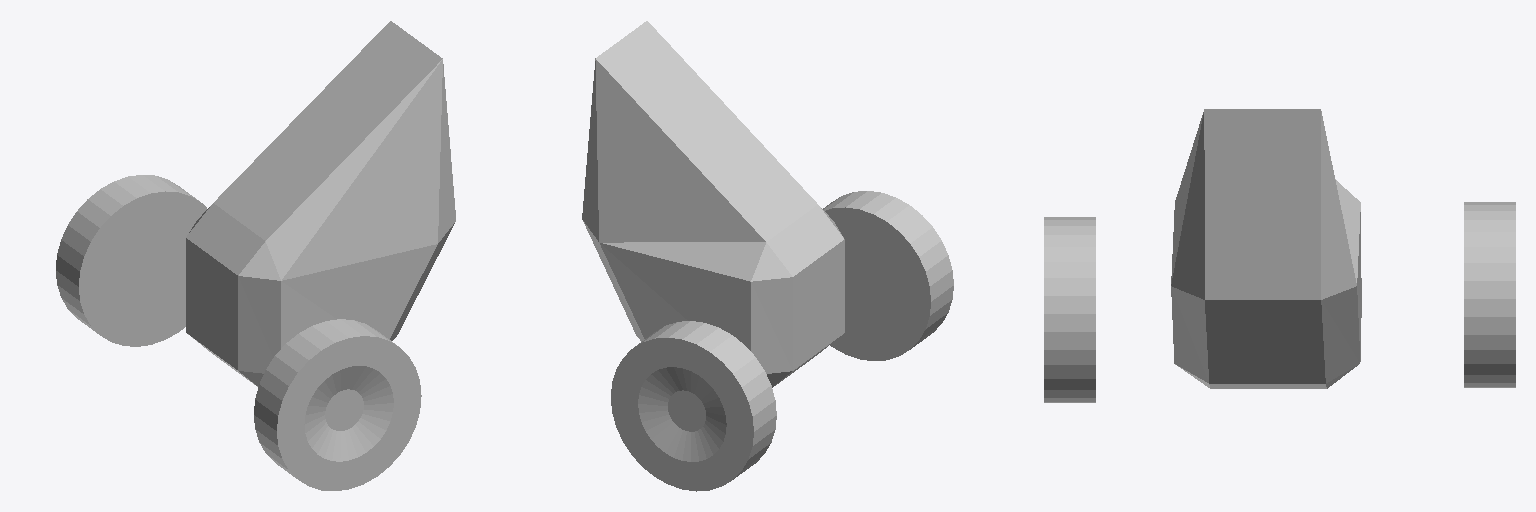
The robot description file, URDF, robot "testlx":
<robot name="testlx" version="1.0">
  <joint name="hw" type="continuous">
    <limit lower="0" upper="0" effort="24.09000" velocity="1.26000"/>
    <origin rpy="-1.57080 0.00000 0.00000" xyz="3.49959 0.08915 -0.59008"/>
    <parent link="myroot"/>
    <child link="sub.002"/>
    <axis xyz="0.00000 0.00000 1.00000"/>
  </joint>
  <joint name="lw" type="continuous">
    <limit lower="0" upper="0" effort="0.54000" velocity="42.30000"/>
    <origin rpy="-1.57080 -0.00000 -3.14159" xyz="-0.49588 -2.24285 -0.59008"/>
    <parent link="myroot"/>
    <child link="sub.001"/>
    <axis xyz="0.00000 0.00000 1.00000"/>
  </joint>
  <joint name="rw" type="continuous">
    <limit lower="0" upper="0" effort="37.08000" velocity="1.26000"/>
    <origin rpy="-1.57080 0.00000 0.00000" xyz="-0.49588 1.97925 -0.59008"/>
    <parent link="myroot"/>
    <child link="sub"/>
    <axis xyz="0.00000 0.00000 1.00000"/>
  </joint>
  <link name="myroot">
    <collision name="Cube_collision">
      <origin rpy="0.00000 0.00000 0.00000" xyz="0.00000 0.00000 0.00000"/>
      <geometry>
        <mesh filename="../meshes/stl/Cube.stl" scale="1.00000 1.00000 1.00000"/>
      </geometry>
    </collision>
    <inertial>
      <inertia ixx="4.60389" ixy="0.12095" ixz="-0.33390" iyy="7.69235" iyz="0.03331" izz="10.97742"/>
      <origin rpy="0.00000 0.00000 0.00000" xyz="0.08486 -0.02017 -0.21391"/>
      <mass value="13.89100"/>
    </inertial>
    <visual name="Cube">
      <origin rpy="0.00000 0.00000 0.00000" xyz="0.00000 0.00000 0.00000"/>
      <material name="Material"/>
      <geometry>
        <mesh filename="../meshes/stl/Cube.stl" scale="1.00000 1.00000 1.00000"/>
      </geometry>
    </visual>
  </link>
  <link name="sub">
    <collision name="Cube.001_collision">
      <origin rpy="0.00000 0.00000 0.00000" xyz="-0.00000 0.00000 -0.10977"/>
      <geometry>
        <cylinder radius="1.00000" length="0.55247"/>
      </geometry>
    </collision>
    <inertial>
      <inertia ixx="0.67785" ixy="-0.00000" ixz="-0.00000" iyy="1.23050" iyz="-0.00000" izz="0.67785"/>
      <origin rpy="0.00000 0.00000 0.00000" xyz="-0.00000 0.00000 -0.10977"/>
      <mass value="2.46100"/>
    </inertial>
    <visual name="Cube.001">
      <origin rpy="-0.00000 0.00000 -0.00000" xyz="0.00000 0.00000 0.00000"/>
      <material name="Material"/>
      <geometry>
        <mesh filename="../meshes/stl/Cube.001.stl" scale="1.00000 1.00000 1.00000"/>
      </geometry>
    </visual>
  </link>
  <link name="sub.001">
    <collision name="Cube.002_collision">
      <origin rpy="0.00000 0.00000 0.00000" xyz="-0.00000 0.00000 -0.10977"/>
      <geometry>
        <cylinder radius="1.00000" length="0.55247"/>
      </geometry>
    </collision>
    <inertial>
      <inertia ixx="0.67785" ixy="-0.00000" ixz="0.00000" iyy="1.23050" iyz="-0.00000" izz="0.67785"/>
      <origin rpy="0.00000 0.00000 0.00000" xyz="0.00000 0.00000 -0.10977"/>
      <mass value="2.46100"/>
    </inertial>
    <visual name="Cube.002">
      <origin rpy="0.00000 0.00000 0.00000" xyz="0.00000 0.00000 -0.00000"/>
      <material name="Material"/>
      <geometry>
        <mesh filename="../meshes/stl/Cube.004.stl" scale="1.00000 1.00000 1.00000"/>
      </geometry>
    </visual>
  </link>
  <link name="sub.002">
    <collision name="Cube.003_collision">
      <origin rpy="0.00000 0.00000 0.00000" xyz="0.00000 0.00000 -0.10977"/>
      <geometry>
        <cylinder radius="1.00000" length="0.55247"/>
      </geometry>
    </collision>
    <inertial>
      <inertia ixx="0.67785" ixy="-0.00000" ixz="-0.00000" iyy="1.23050" iyz="-0.00000" izz="0.67785"/>
      <origin rpy="0.00000 0.00000 0.00000" xyz="0.00000 0.00000 -0.10977"/>
      <mass value="2.46100"/>
    </inertial>
    <visual name="Cube.003">
      <origin rpy="-0.00000 0.00000 -0.00000" xyz="0.00000 0.00000 -0.00000"/>
      <material name="Material"/>
      <geometry>
        <mesh filename="../meshes/stl/Cube.020.stl" scale="1.00000 1.00000 1.00000"/>
      </geometry>
    </visual>
  </link>
  <material name="Material">
    <color rgba="0.80000 0.80000 0.80000 1.00000"/>
  </material>
</robot>

--- Facts derived from the render (not from the file) ---
Views: 3 orthographic renders of the robot side by side, from view 1: azimuth 30°, elevation 25°; view 2: azimuth 150°, elevation 25°; view 3: azimuth 270°, elevation 25°.
Robot: testlx — 4 links, 3 joints (3 continuous); root link myroot; default pose: all joints at 0.
Links seen in each view (by area): view 1: myroot, sub.001, sub; view 2: myroot, sub, sub.001; view 3: myroot, sub, sub.001.
Link boxes in pixels (<box>): myroot: <box>186,21,455,386</box>; sub.001: <box>254,319,421,490</box>; sub: <box>56,175,206,346</box>; myroot: <box>582,21,844,387</box>; sub: <box>611,321,776,491</box>; sub.001: <box>823,191,953,360</box>; myroot: <box>1171,109,1361,388</box>; sub: <box>1464,202,1515,387</box>; sub.001: <box>1044,217,1095,402</box>.
Bounding box of the posed robot: 3.61 × 5.06 × 4.46 m (x, y, z).
3 mesh visuals loaded from 4 distinct referenced files (3 binary STL); not drawn: 1 (reference not matched to a file when rendering).